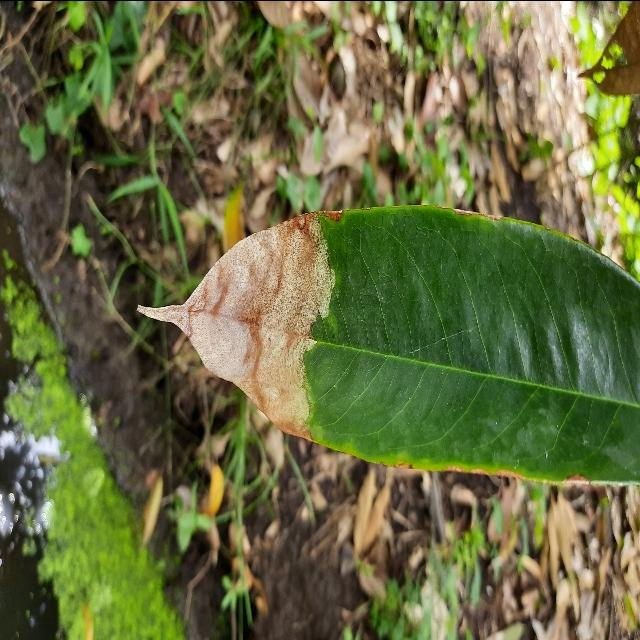Leaf Blight: (132, 195, 640, 491)
